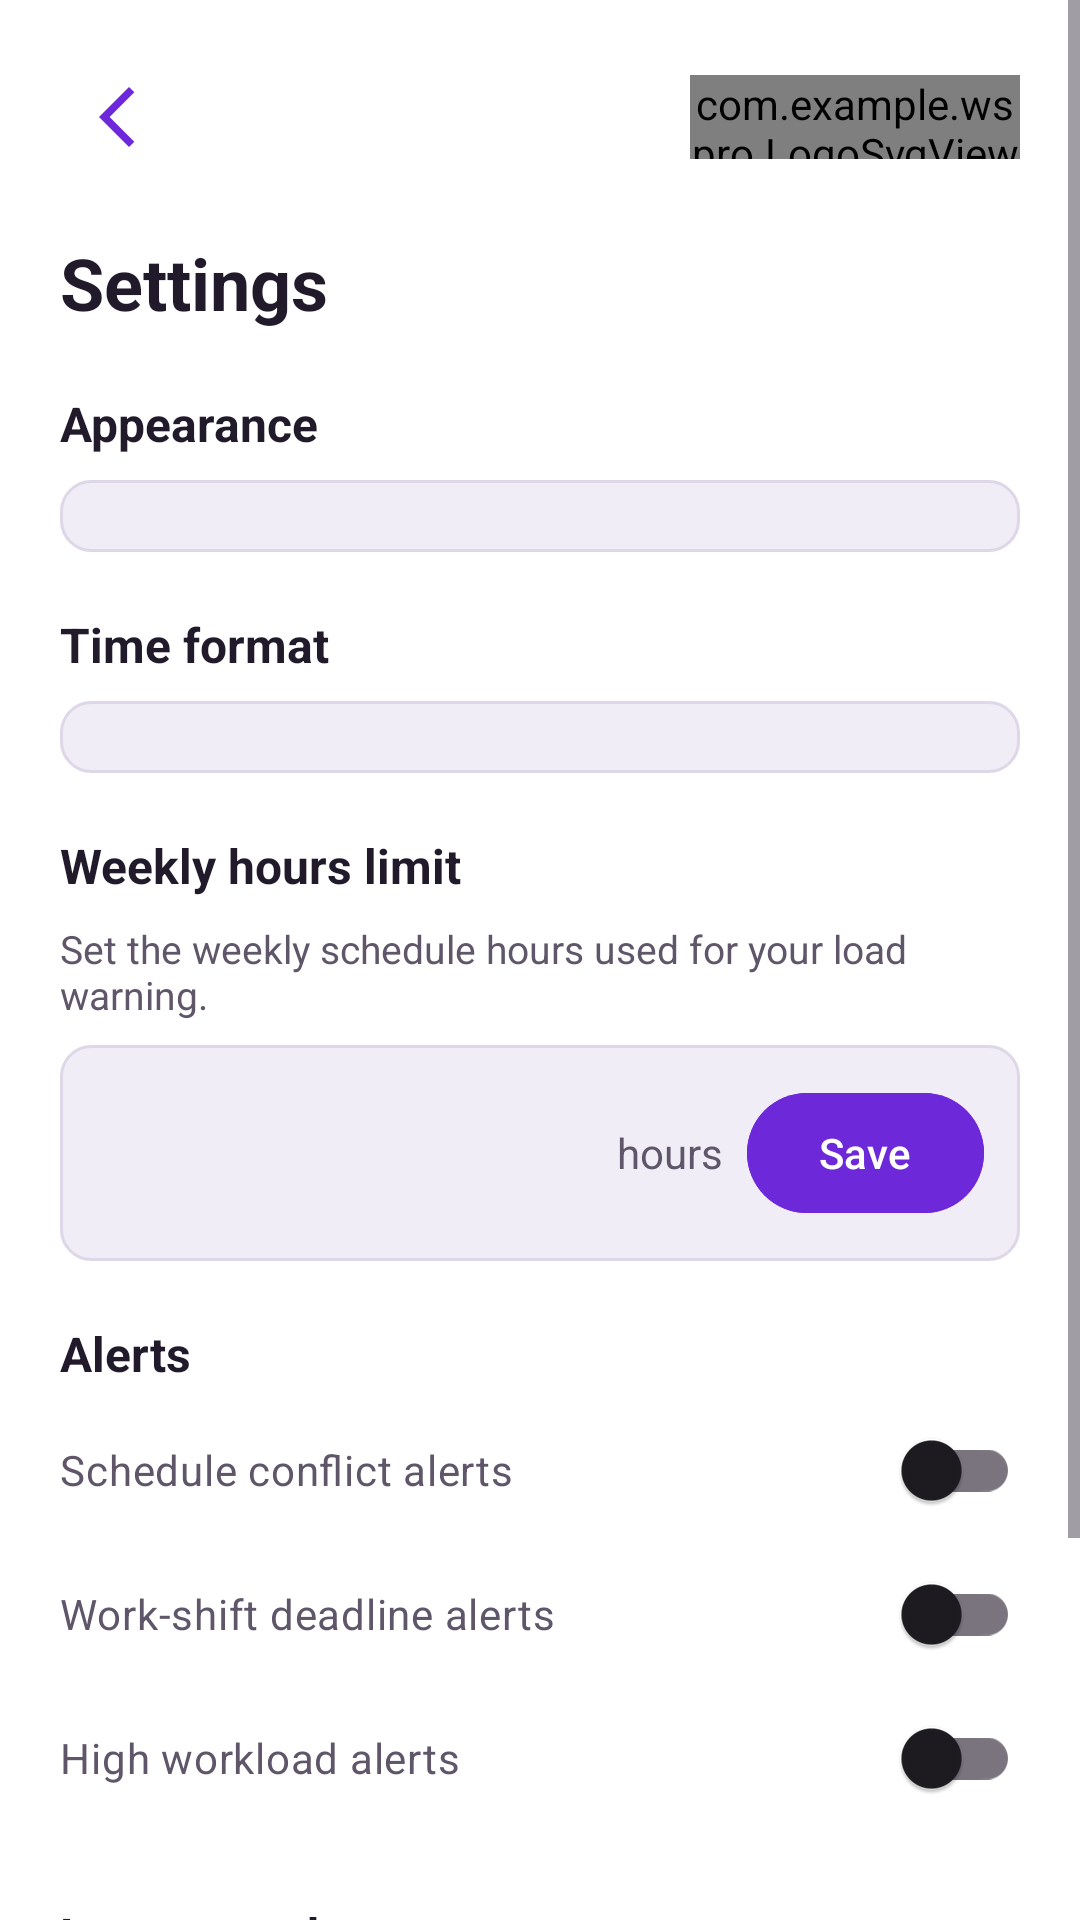

Named icons in this screenshot (1080*1920) and their centers, (x,y):
Back: (116,117)
